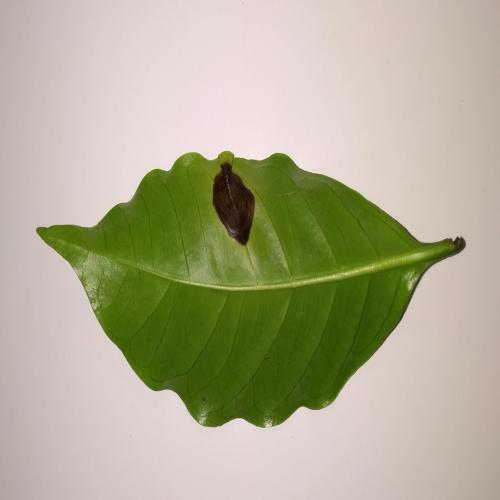miner: (213, 163, 255, 246)
